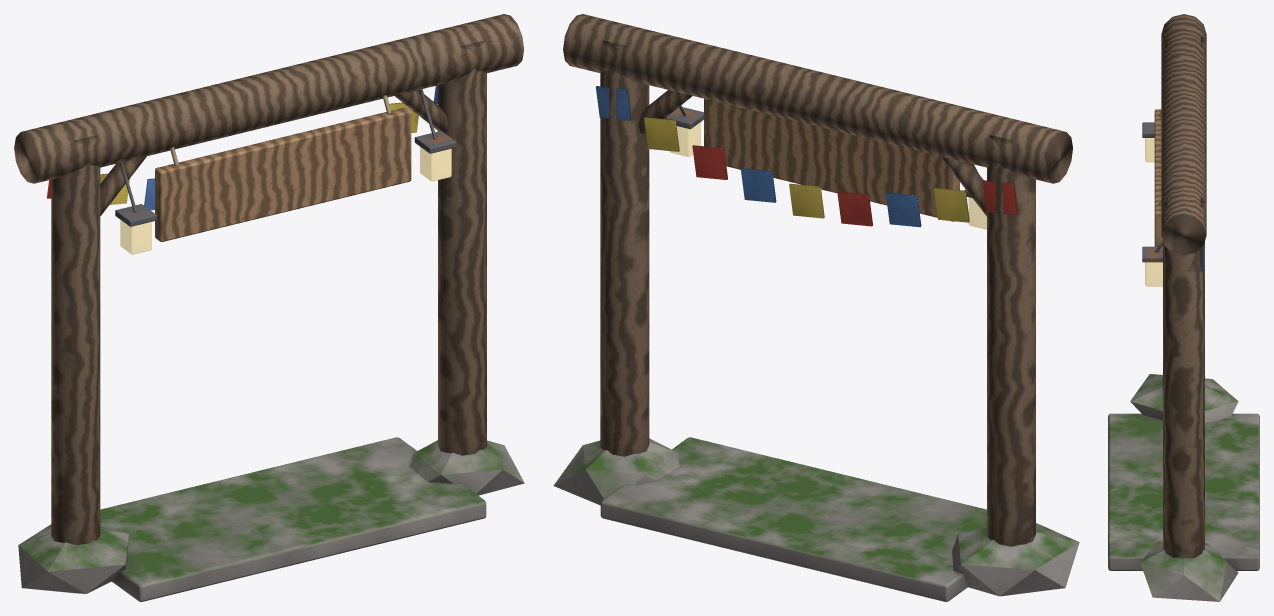
The model's file is portal.glb.
3 views of the same model, side by side, from view 1: azimuth 30°, elevation 25°; view 2: azimuth 150°, elevation 25°; view 3: azimuth 270°, elevation 25° (orthographic). The views are drawn at different scales.
Parts seen in each view (by area): view 1: Portal; view 2: Portal; view 3: Portal.
Boxes of the visible parts, bbox=[...] form: Portal: bbox=[14, 14, 524, 601]; Portal: bbox=[553, 14, 1079, 601]; Portal: bbox=[1108, 14, 1259, 601].
Bounding box in the file's own units: 5.08 × 4.66 × 1.6.
9 materials, 9 textured.
